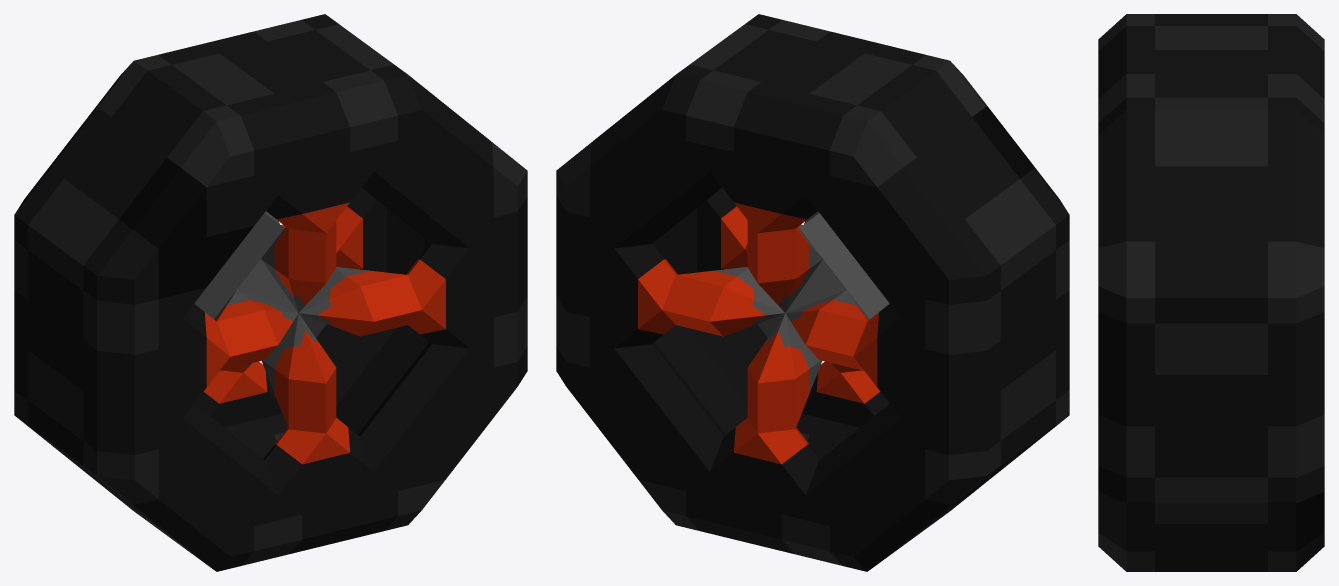
3 views of the same model, side by side, from view 1: azimuth 30°, elevation 25°; view 2: azimuth 150°, elevation 25°; view 3: azimuth 270°, elevation 25° (orthographic). The views are drawn at different scales.
Parts seen in each view (by area): view 1: f1; view 2: f1; view 3: f1.
Part boxes in pixels (x1,y1,x2,y2): f1: (14,14,527,571); f1: (556,14,1069,571); f1: (1098,14,1324,571).
Bounding box in the file's own units: 354 × 354 × 157.
